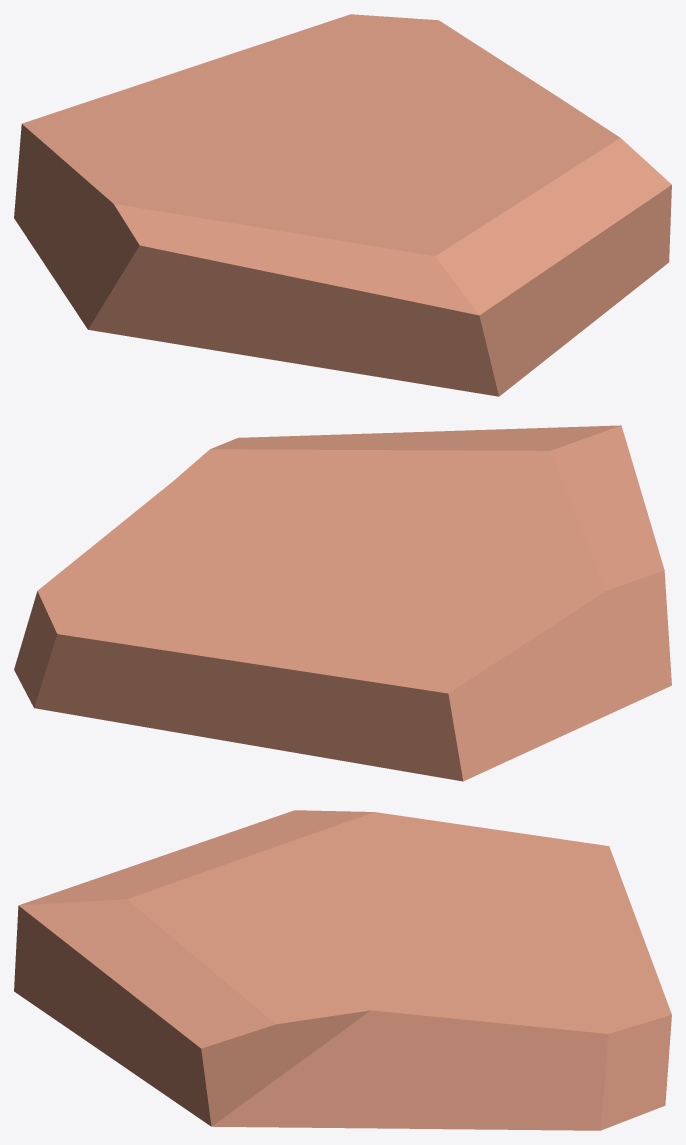
The model's file is SM_stone3.fbx.
The picture shows the model from 3 angles, top to bottom: view 1: azimuth 30°, elevation 25°; view 2: azimuth 150°, elevation 25°; view 3: azimuth 270°, elevation 25°; orthographic projection. The views are drawn at different scales.
Visible parts, largest first — view 1: stone2; view 2: stone2; view 3: stone2.
Boxes of the visible parts, x1,y1,x2,y2 form: stone2: (14,14,671,396); stone2: (14,425,671,781); stone2: (14,810,671,1130).
Size of the model in its own units: 11.82 by 2.4 by 13.75.
